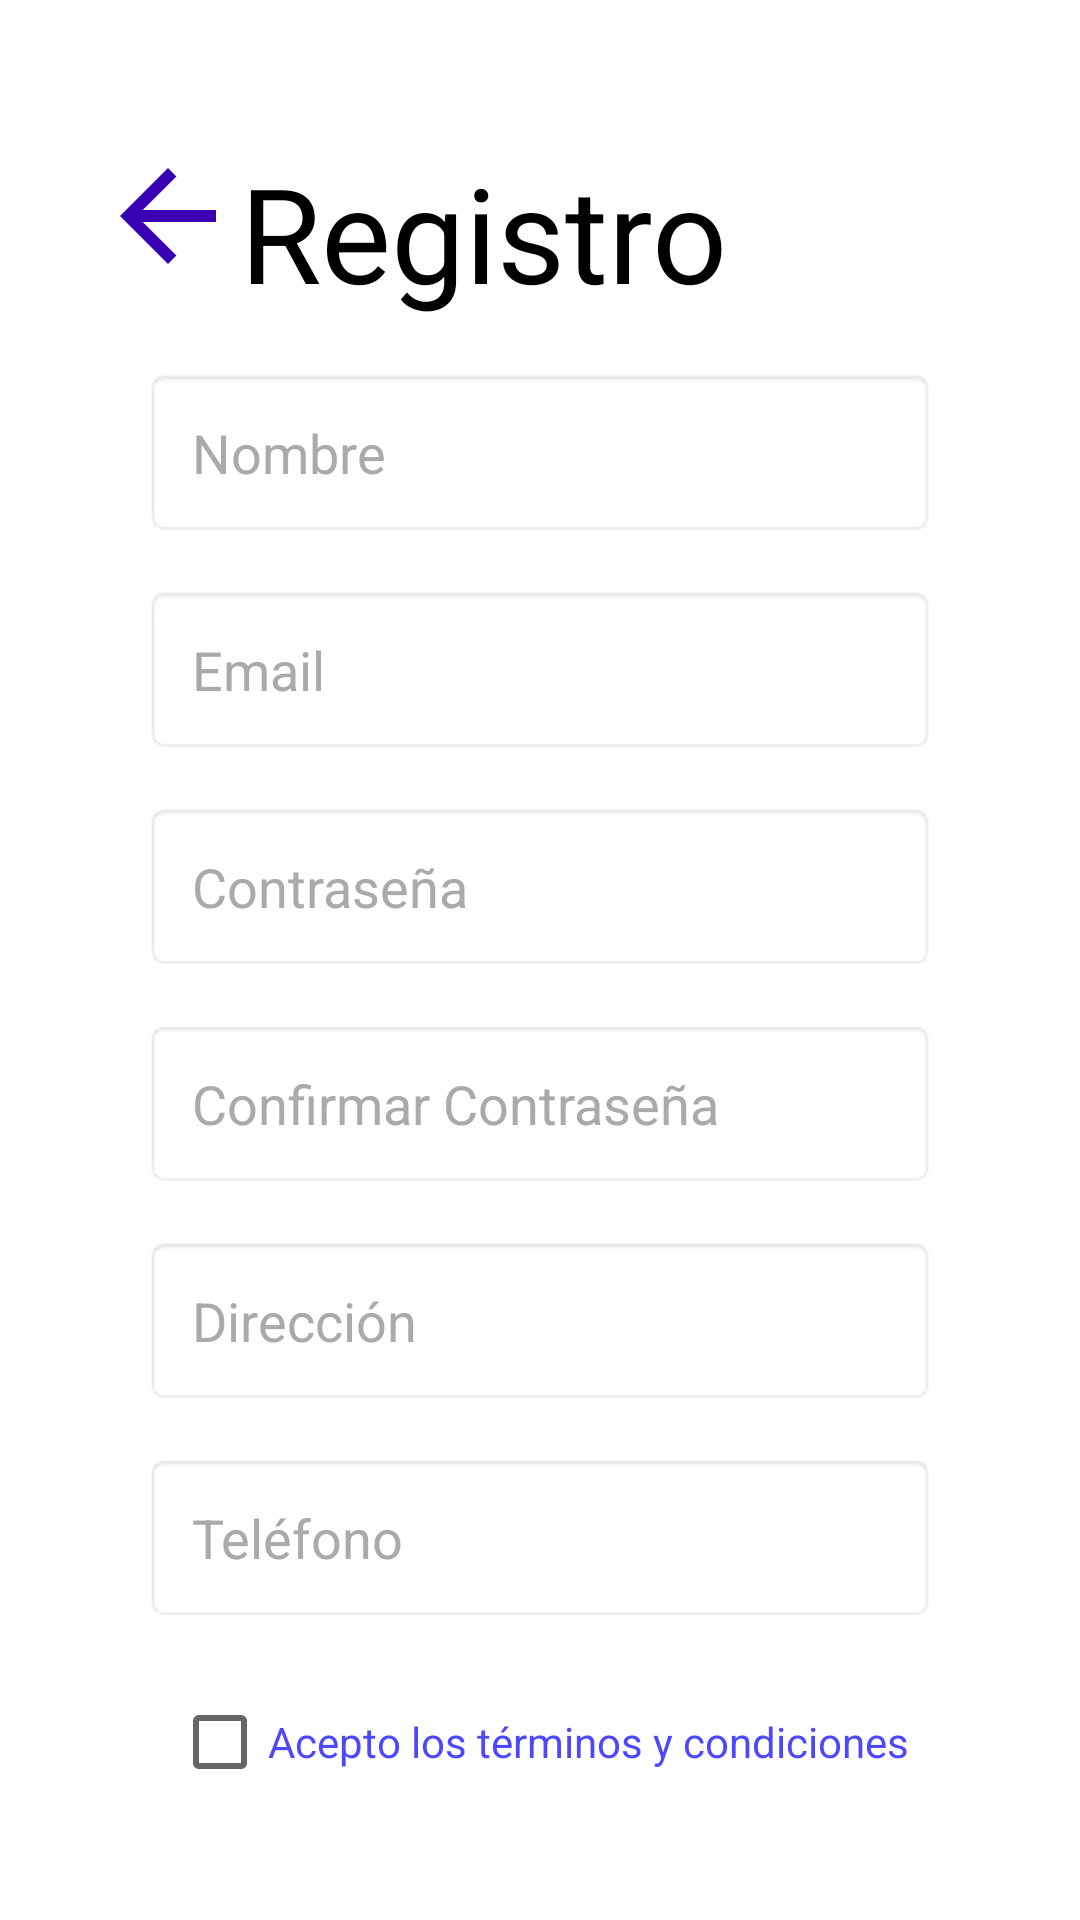

Named icons in this screenshot (1080*1920) and their centers, (x,y):
Retroceder: (168,216)
